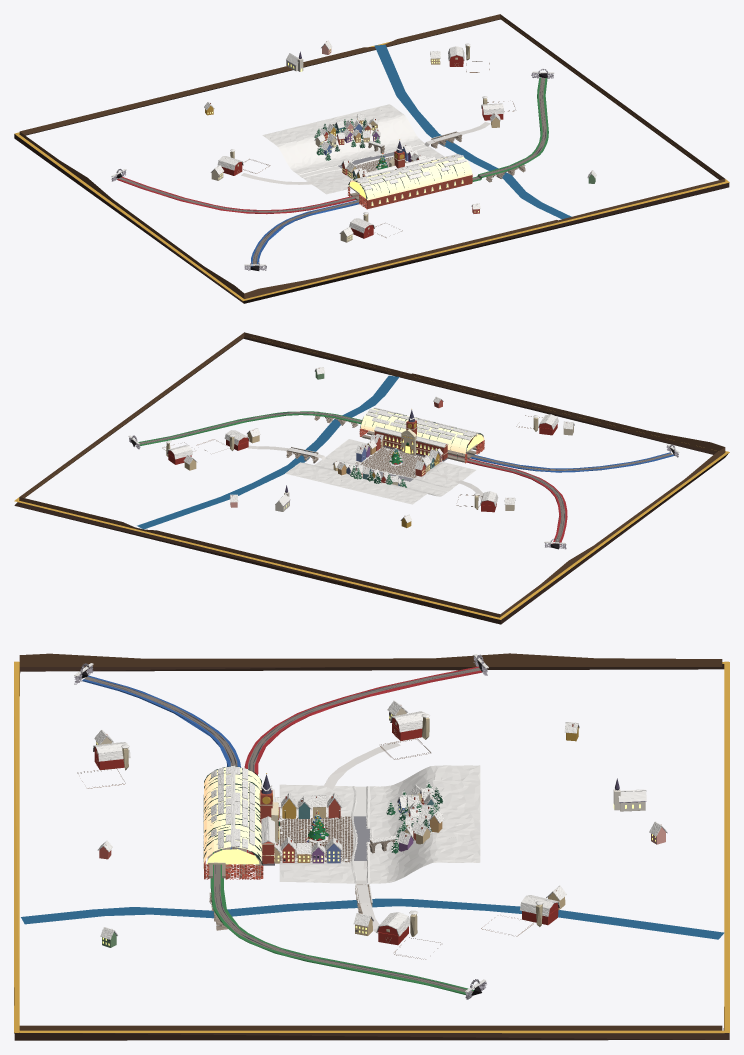
File: static_base_lo.glb
3 renders of one model, top to bottom at view 1: azimuth 30°, elevation 25°; view 2: azimuth 150°, elevation 25°; view 3: azimuth 270°, elevation 25°, orthographic. The views are drawn at different scales.
Visible parts, largest first — view 1: BoardStrata, GroundSnow, R_PlinthWood, R_Snow, RiverResin, R_Gold, ShedGlass, Ballast, Snow, R_StationBrick, Roadbed_red, Roadbed_green (+3 smaller); view 2: BoardStrata, GroundSnow, R_PlinthWood, R_Snow, R_Gold, RiverResin, Ballast, ShedGlass, Snow, Cobble, R_StationBrick, Roadbed_green (+6 smaller); view 3: GroundSnow, BoardStrata, R_PlinthWood, R_Gold, R_Snow, RiverResin, Ballast, Snow, ShedGlass, Roadbed_green, Cobble, Roadbed_red (+6 smaller).
Part boxes in pixels (x1,y1,x2,y2): BoardStrata: (19,14,725,298); GroundSnow: (262,104,444,194); R_PlinthWood: (14,19,729,303); R_Snow: (111,40,596,265); RiverResin: (374,44,571,219); R_Gold: (14,41,729,301); ShedGlass: (348,156,472,200); Ballast: (118,77,546,265); Snow: (314,113,425,177); R_StationBrick: (347,151,472,209); Roadbed_red: (117,176,358,214); Roadbed_green: (472,77,548,181); BoardStrata: (19,332,725,617); GroundSnow: (285,439,475,504); R_PlinthWood: (14,337,728,624); R_Snow: (128,367,679,544); R_Gold: (14,409,729,619); RiverResin: (137,375,399,529); Ballast: (135,411,672,542); ShedGlass: (361,408,484,453); Snow: (332,434,440,487); Cobble: (355,447,424,477); R_StationBrick: (359,420,484,463); Roadbed_green: (138,411,361,445); GroundSnow: (278,765,480,883); BoardStrata: (19,653,722,1030); R_PlinthWood: (14,664,729,1040); R_Gold: (14,661,729,1033); R_Snow: (74,654,667,992); RiverResin: (21,898,724,939); Ballast: (84,667,480,992); Snow: (280,783,443,854); ShedGlass: (204,767,261,862); Roadbed_green: (210,849,473,994); Cobble: (278,816,353,862); Roadbed_red: (244,666,482,852).
Size of what is drawn, in the model's own units: 324 by 33.64 by 264.
